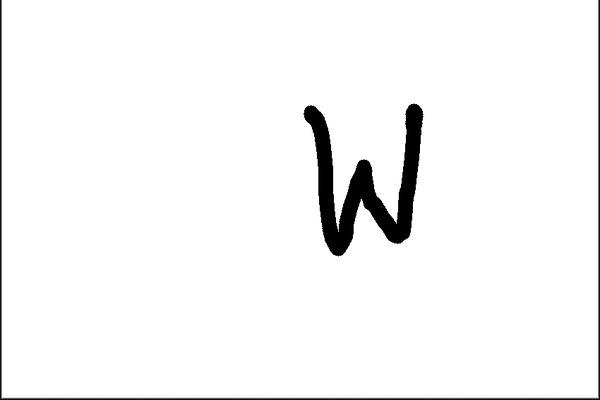w: (268, 85, 436, 263)
